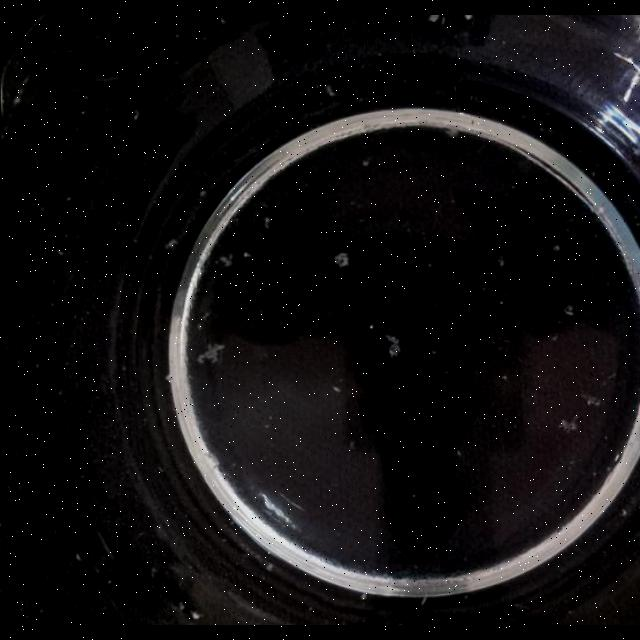Fibre: (197, 342, 225, 366), (384, 332, 402, 356), (559, 416, 579, 432), (335, 251, 351, 267), (582, 393, 600, 407), (165, 238, 179, 252), (220, 255, 234, 268), (324, 84, 336, 96), (564, 304, 574, 316)
microbeads: (199, 310, 211, 322), (496, 255, 506, 267), (198, 188, 208, 198), (264, 218, 272, 230), (56, 248, 66, 256), (242, 251, 252, 259), (332, 384, 342, 392), (133, 110, 141, 120), (619, 507, 627, 517), (74, 552, 82, 562), (348, 440, 356, 450), (362, 158, 370, 166), (500, 374, 508, 382), (552, 244, 560, 252), (430, 349, 438, 357), (195, 323, 202, 331), (66, 195, 72, 202), (427, 262, 433, 268)
